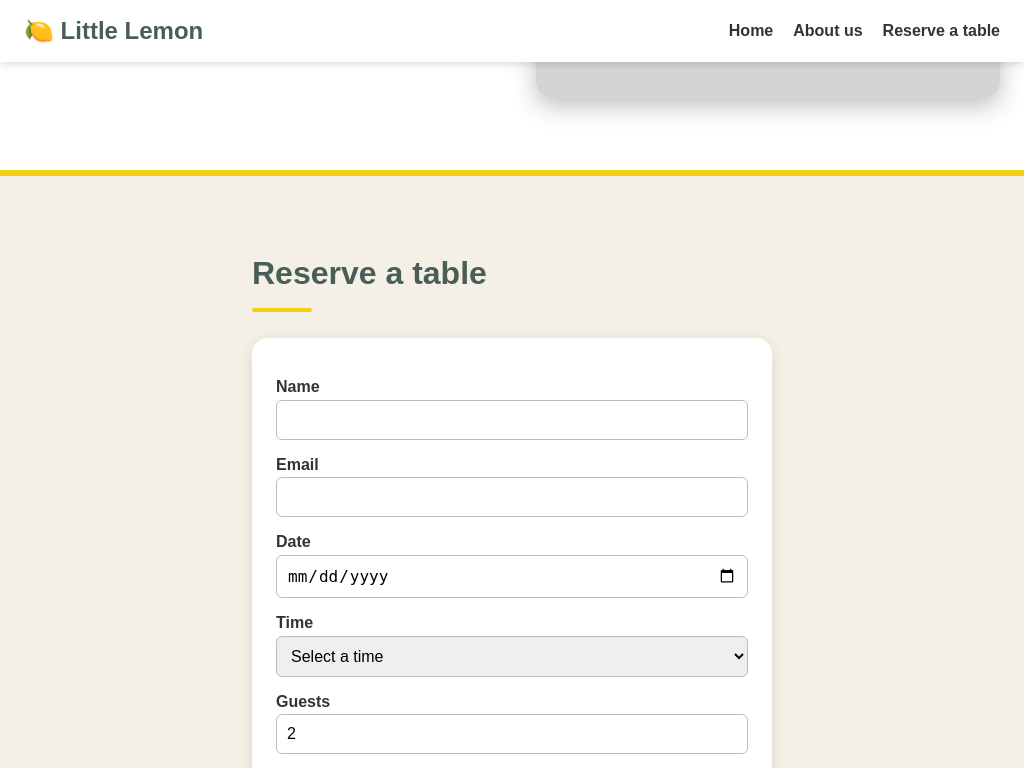
Test case: booking form › rejects a past date
The width and height of the screenshot is (1024, 768).
(page scrolled)
Type "Ada" into the field labelled "Name". click: (512, 420)
box: left=276, top=400, right=748, bottom=440
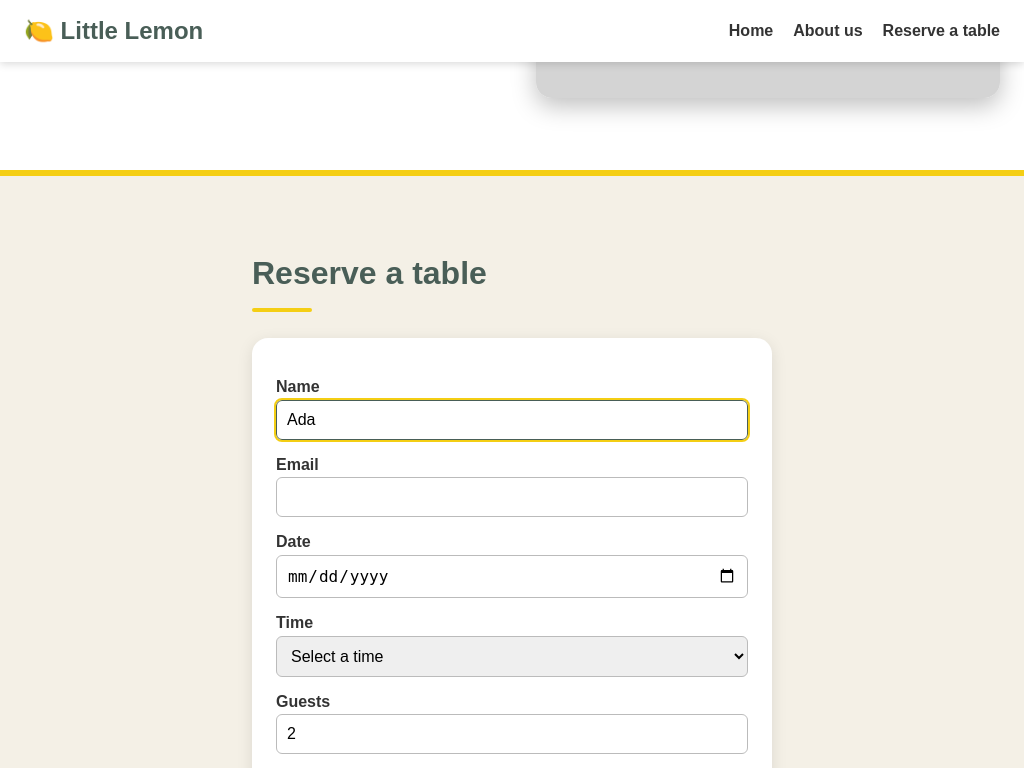
Type "ada@example.com" into the field labelled "Email". click: (512, 497)
box: left=276, top=477, right=748, bottom=517
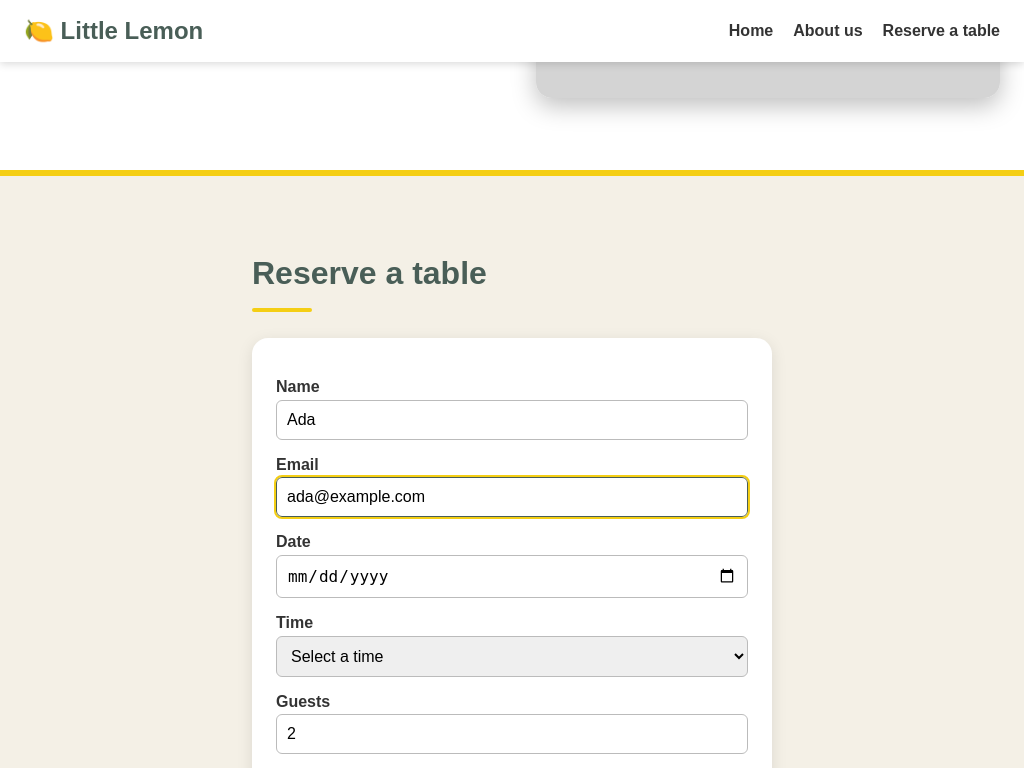
Type "2000-01-01" into the date field labelled "Date". click: (512, 576)
box: left=276, top=555, right=748, bottom=598
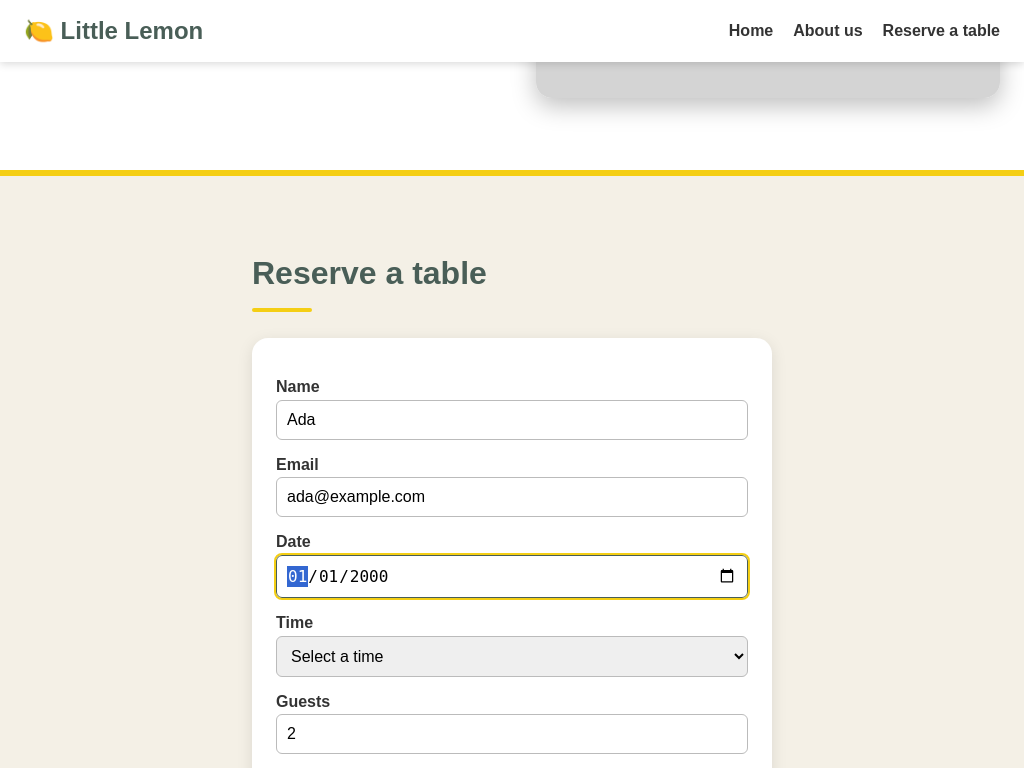
Select "18:00" in the dropdown labelled "Time". click: (512, 656)
box: left=276, top=636, right=748, bottom=676
(page scrolled)
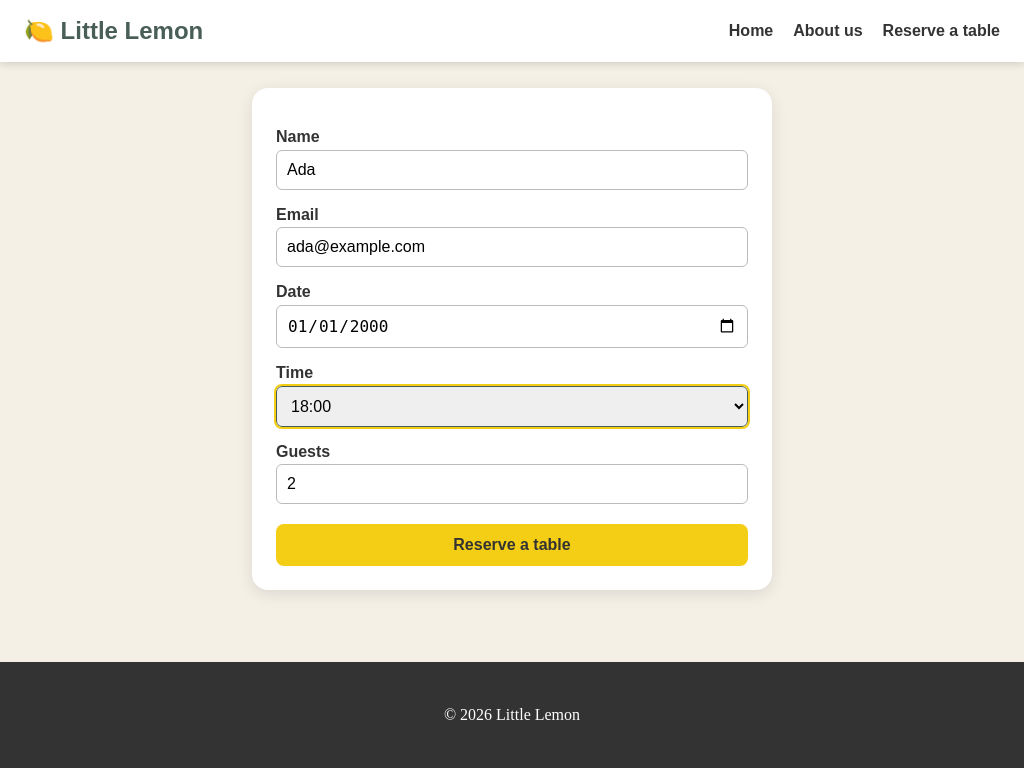
Click the button "Reserve a table". click: (512, 545)
box: left=276, top=524, right=748, bottom=566
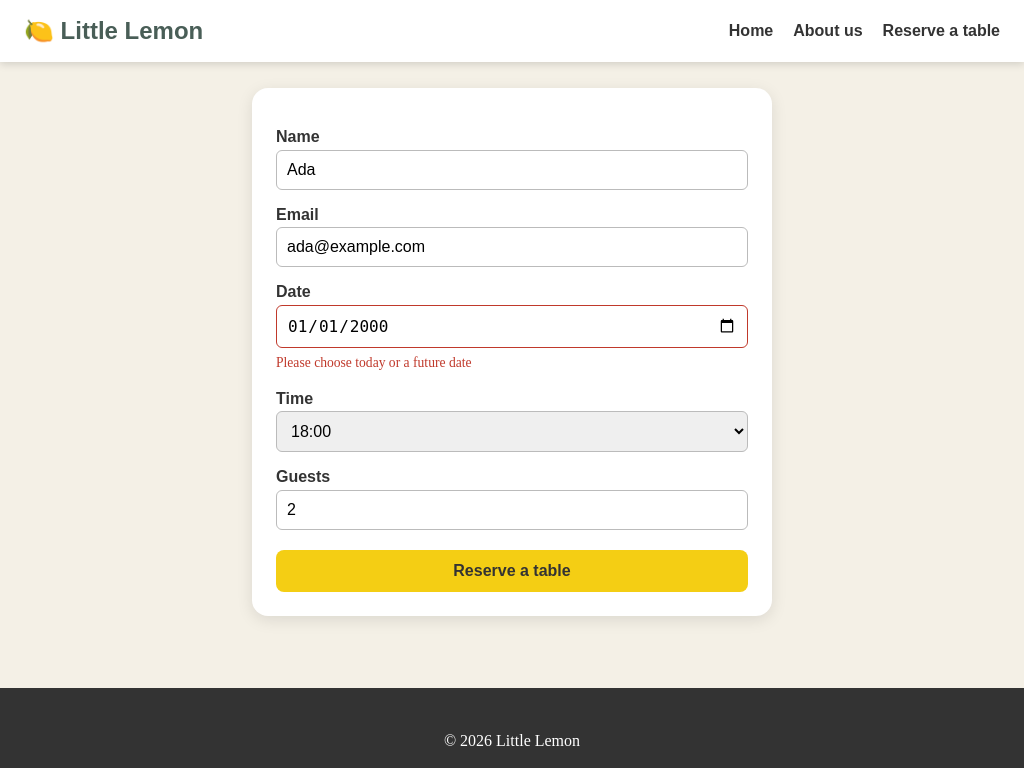
Result: the text "Please choose today or a future date" is shown at left=276, top=355, right=472, bottom=370
